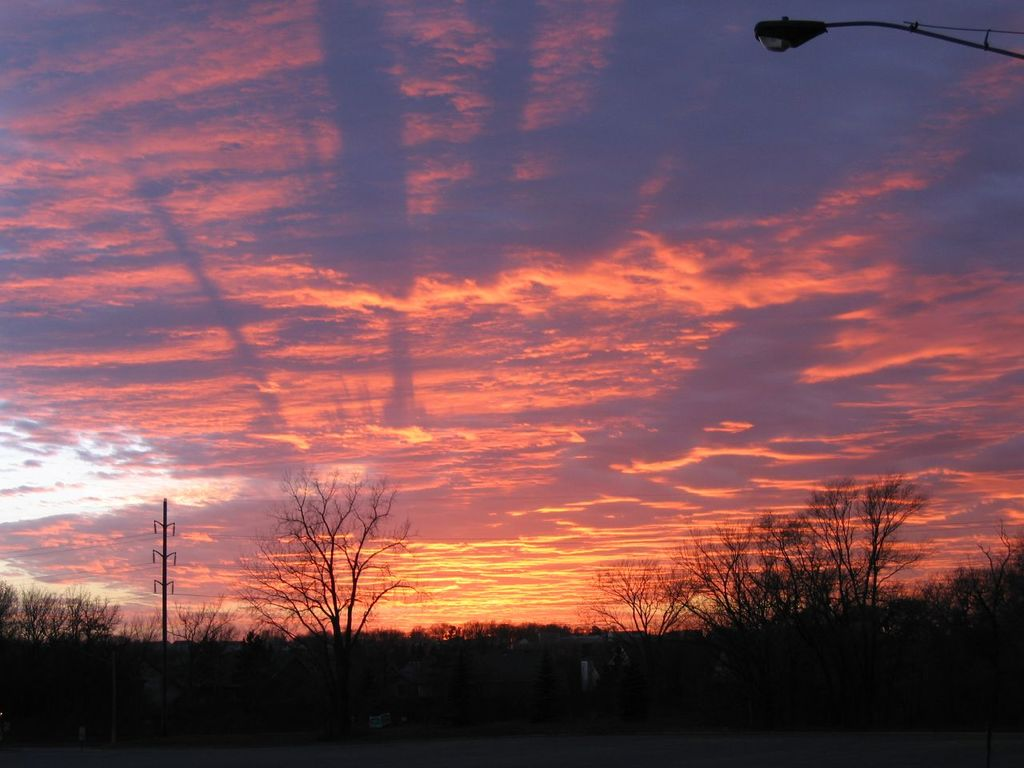Tree: (599, 470, 940, 640), (224, 463, 408, 642)
